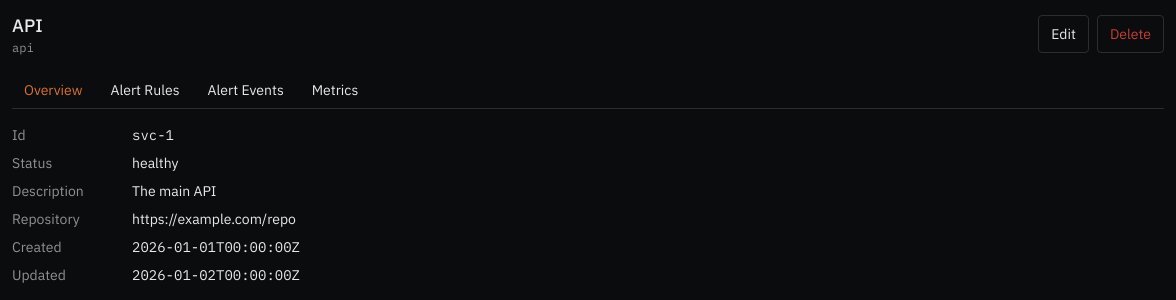
Test: ServiceDetailPage › marks the selected tab active via data-active (not the unsupported data-selected)
This screenshot has width=1176, height=300.
What coordinates should you click on to do the following:
click the tab "Alert Rules"
I would click on:
 (145, 90)
Its box is [98, 72, 192, 108].
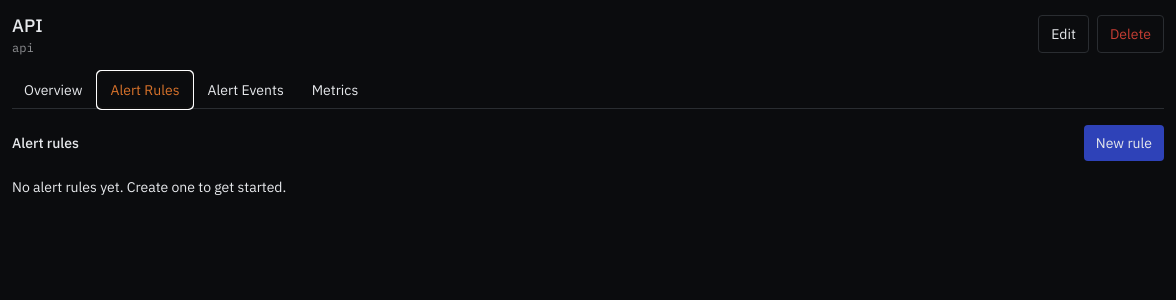
Check: the tab "Alert Rules" has attribute data-active, box [98, 72, 192, 108]
Check: the tab "Overview" does not have attribute data-active, box [12, 72, 94, 108]
